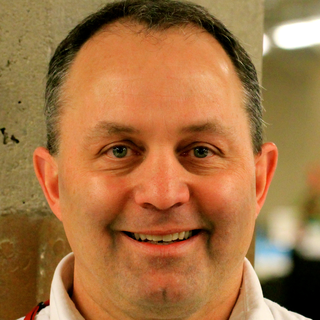eye: (178, 139, 225, 165), (96, 139, 142, 164)
